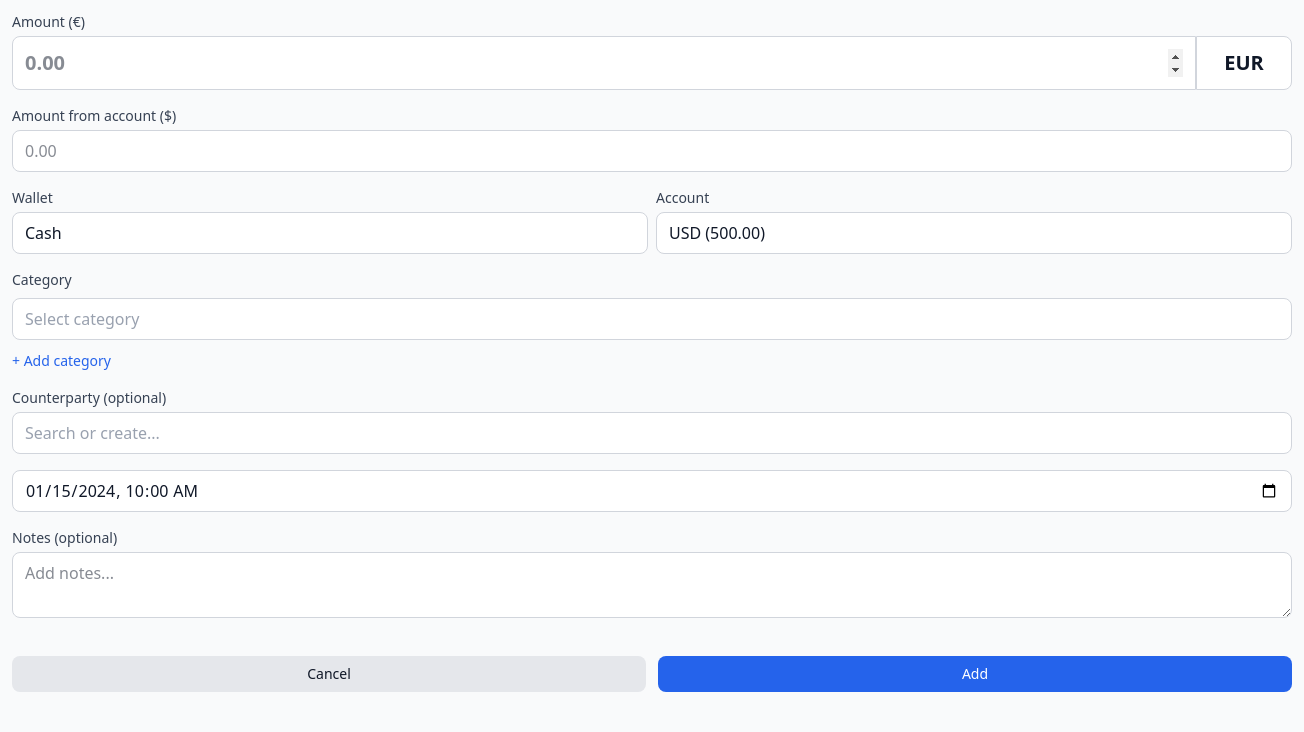
it: ExpenseTransactionForm › payment currency differs from account currency › shows validation error when payment amount missing for cross-currency
Type "50" into the number field labelled "Amount (€)" at (604, 63), box [12,36,1196,90]
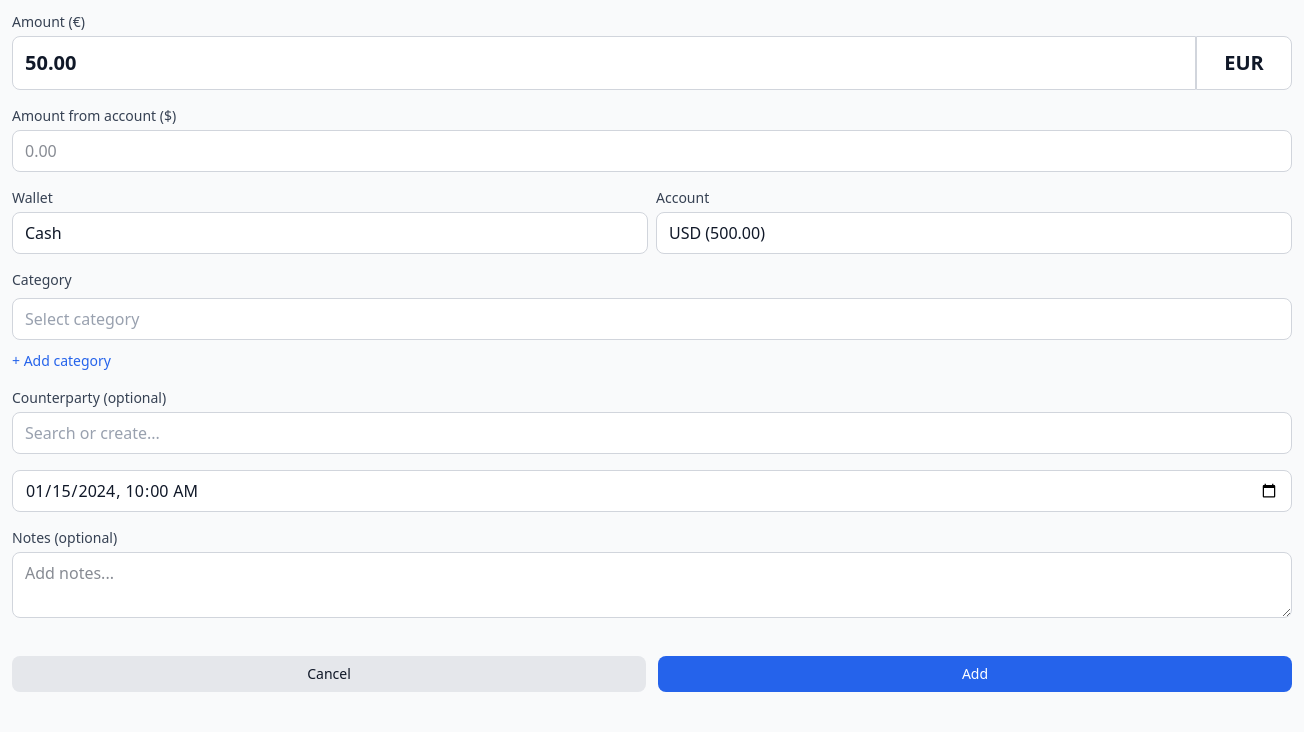
Type "Food" into the dropdown with placeholder "Select category" at (652, 319), box [12,298,1292,340]
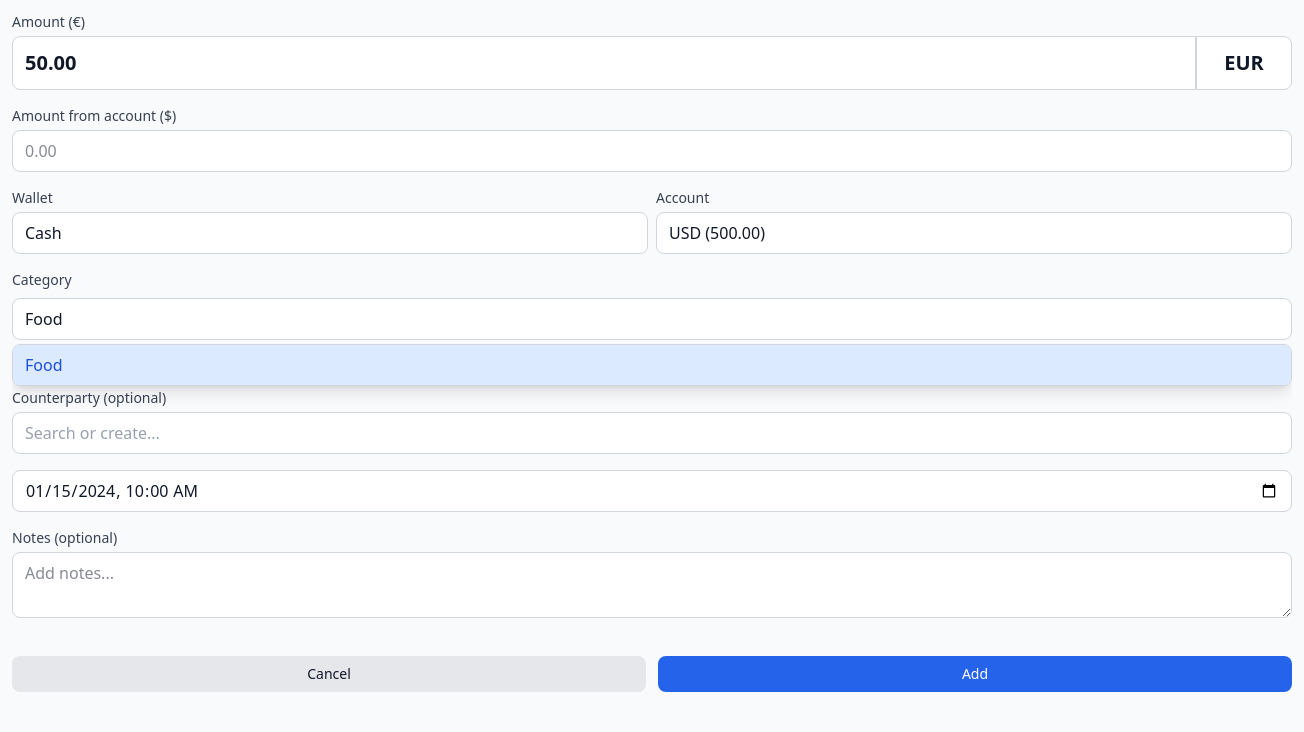
Expected: the option "Food" is shown
Click the option "Food" at (44, 365), box [13,345,1291,385]
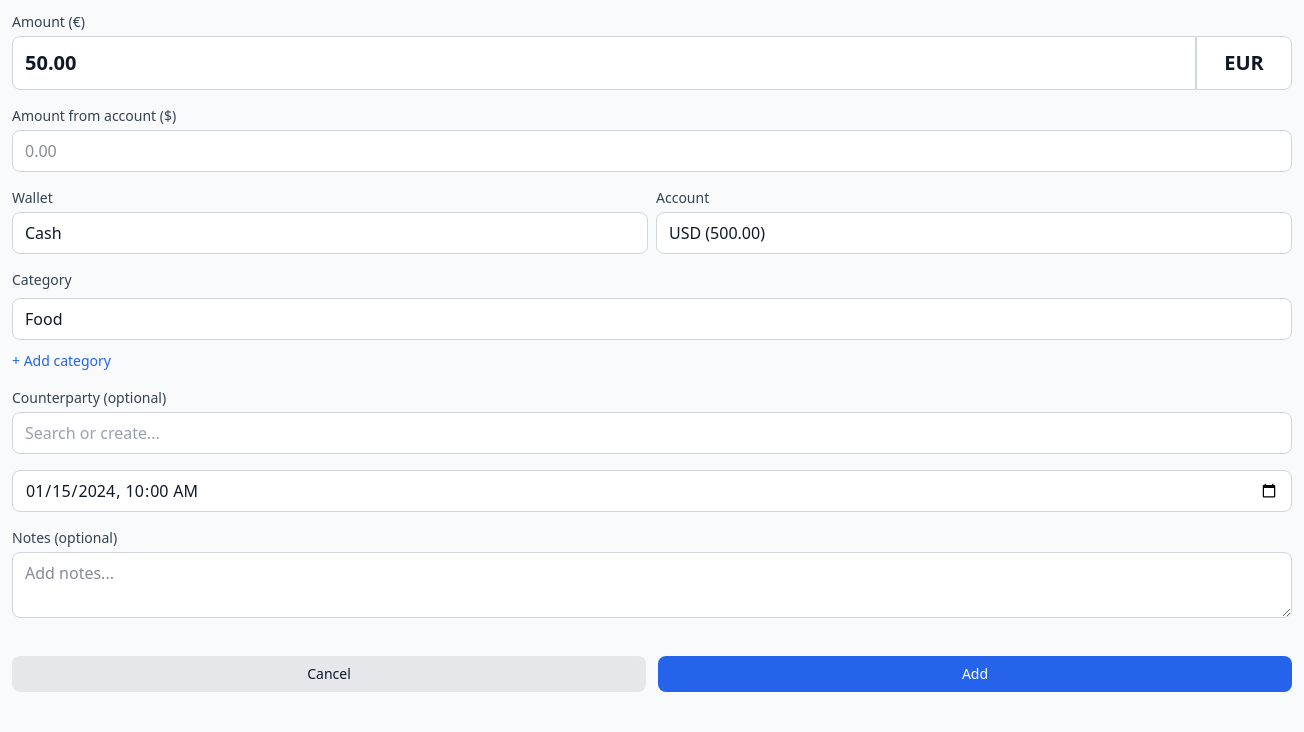
Click the button "Add" at (975, 674), box [658,656,1292,692]
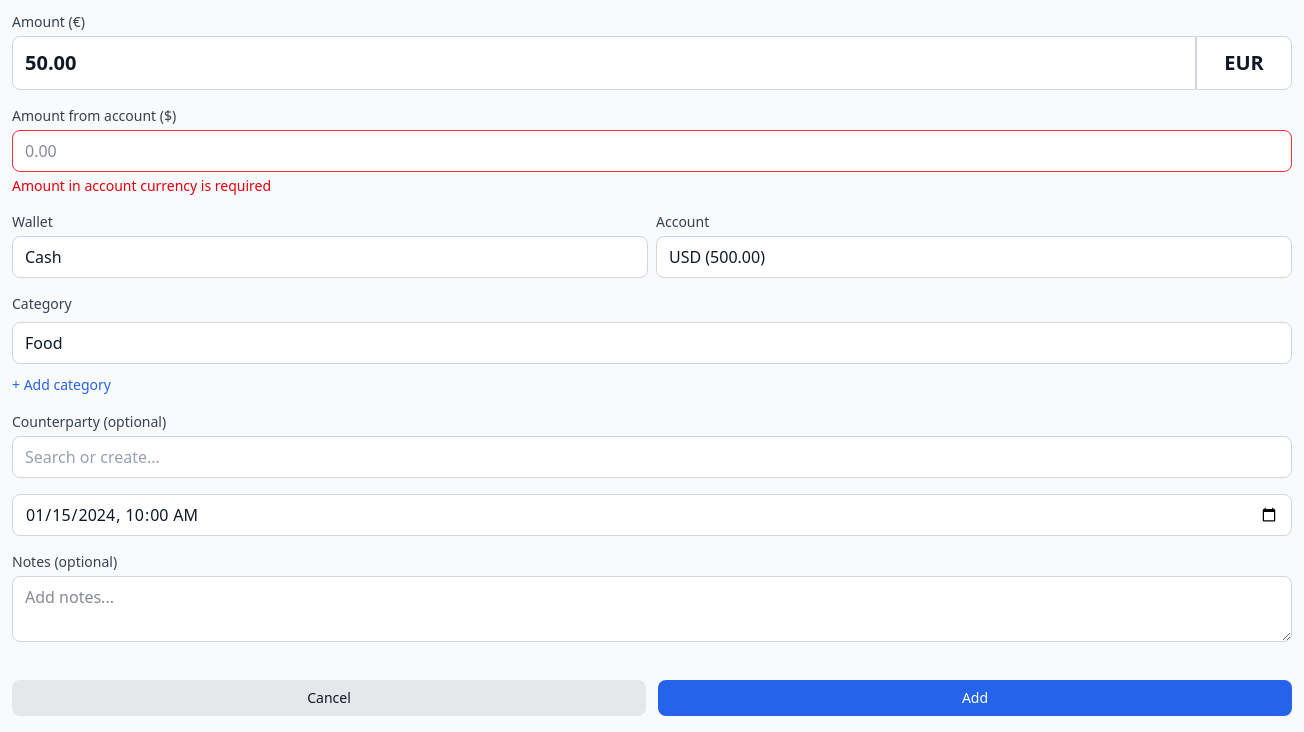
Expected: the text "Amount in account currency is required" is shown, [12,176,271,195]
